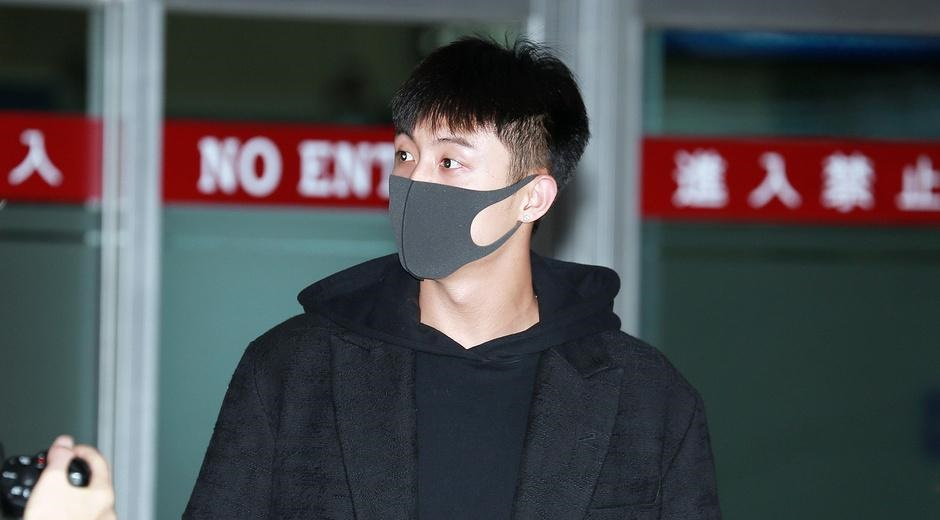face_mask: (390, 114, 497, 280)
